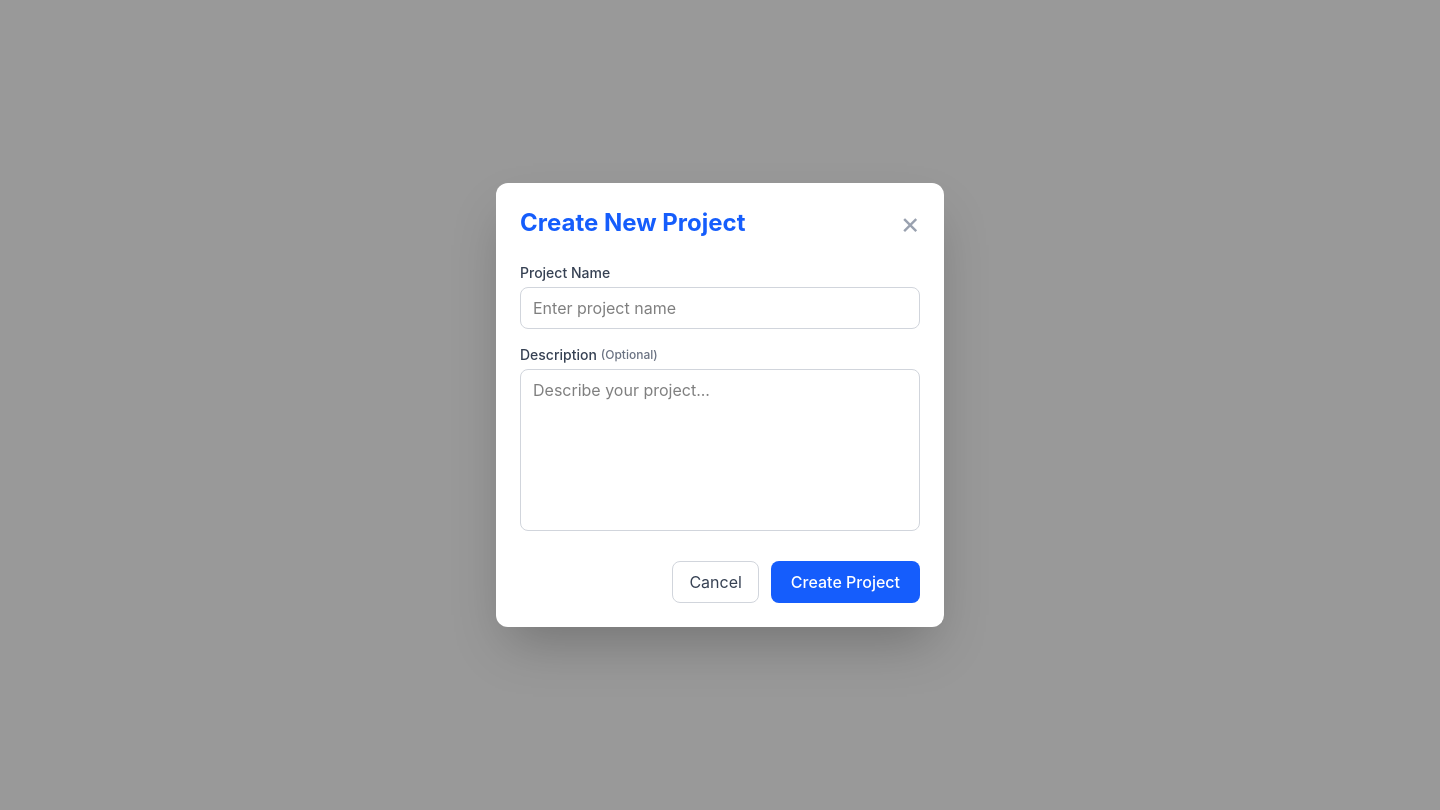
Test: ManageProjectCard › validation › should display an error when project name is empty
Click the button "Create Project" at (845, 582), box [771, 561, 920, 603]
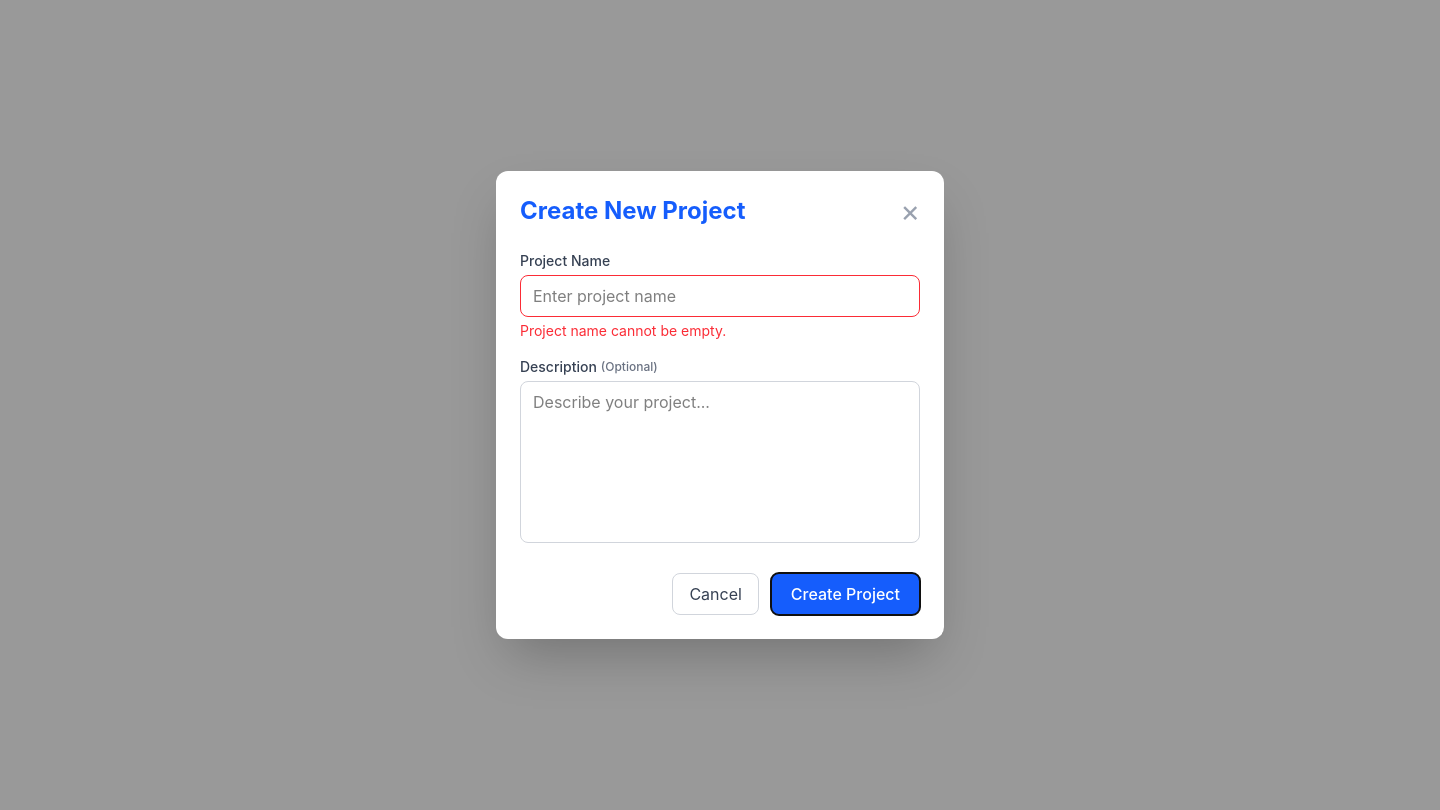
Result: the text "Project name cannot be empty." is shown at [520, 322, 726, 339]
